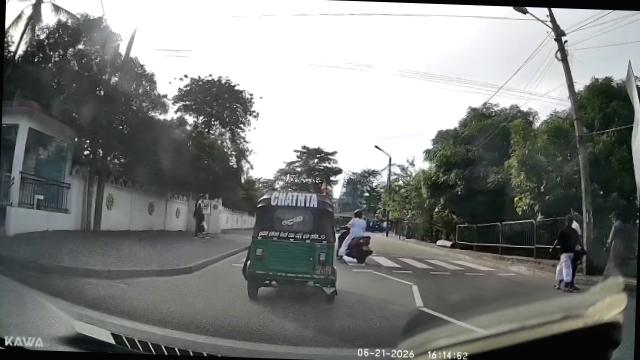illegal u turn: (340, 206, 379, 270)
